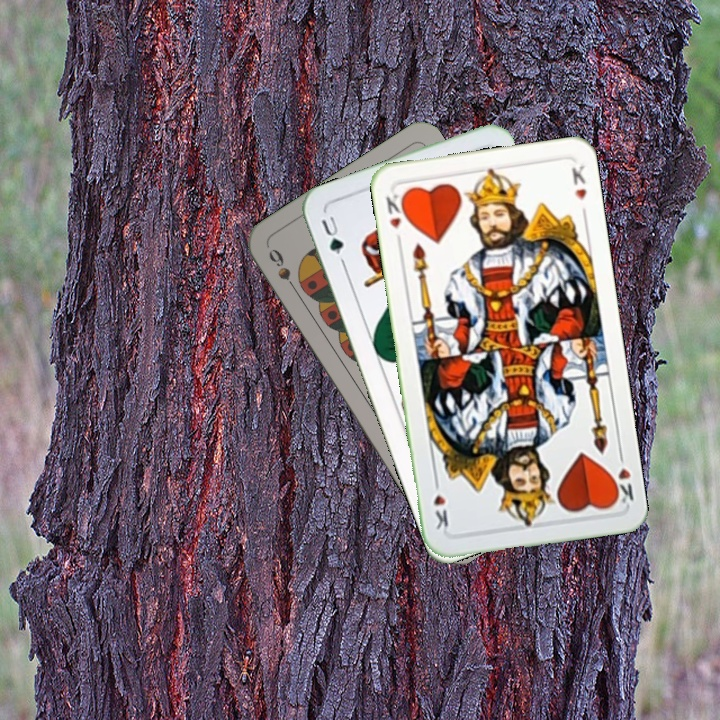GU: (317, 211, 347, 266)
HK: (607, 447, 637, 508), (382, 190, 410, 246)
S9: (264, 244, 306, 297)
